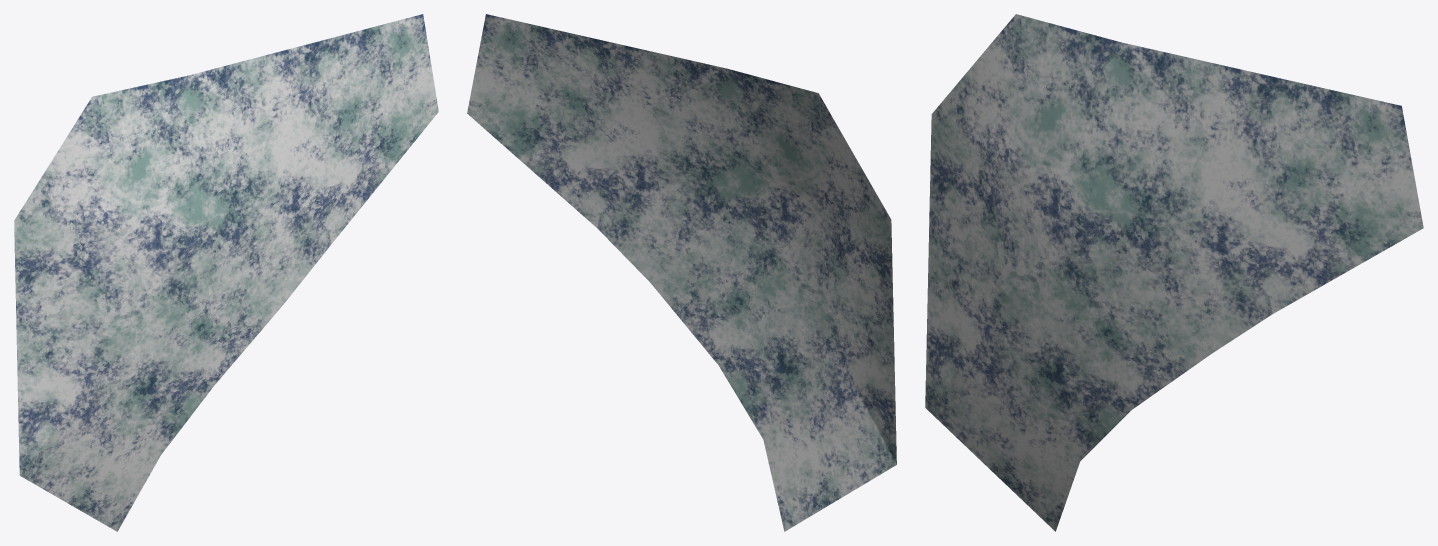
The model's file is SpiderWeb1.fbx.
The picture shows the model from 3 angles, left to right: view 1: azimuth 30°, elevation 25°; view 2: azimuth 150°, elevation 25°; view 3: azimuth 330°, elevation 25°; orthographic projection. The views are drawn at different scales.
Visible parts, largest first — view 1: SM_d_109_Cliff_Spiderweb_01a; view 2: SM_d_109_Cliff_Spiderweb_01a; view 3: SM_d_109_Cliff_Spiderweb_01a.
Part boxes in pixels (x1=…): SM_d_109_Cliff_Spiderweb_01a: x1=14, y1=14, x2=438, y2=531; SM_d_109_Cliff_Spiderweb_01a: x1=467, y1=14, x2=896, y2=531; SM_d_109_Cliff_Spiderweb_01a: x1=925, y1=14, x2=1423, y2=531.
Size of the model in its own units: 1047 by 1047 by 96.5.
